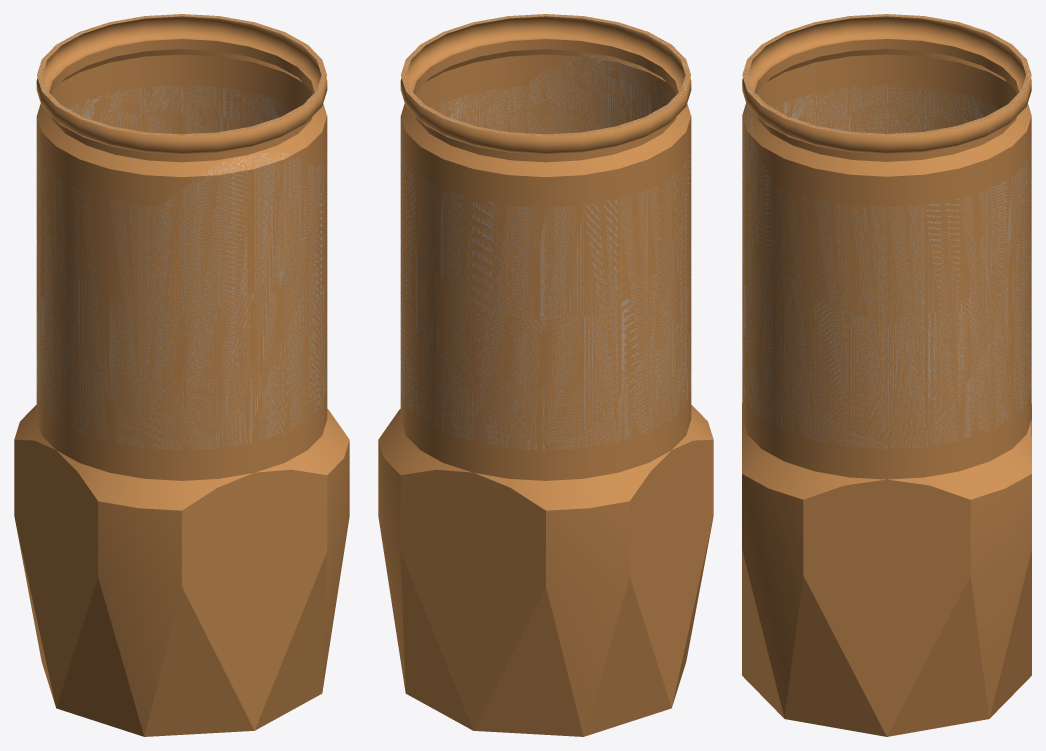
The model's file is original-3.obj.
3 renders of one model, left to right at view 1: azimuth 30°, elevation 25°; view 2: azimuth 150°, elevation 25°; view 3: azimuth 270°, elevation 25°, orthographic.
Visible parts, largest first — view 1: Component_3_1/Component_3/mesh3/mesh3-geometry#mesh3-geometry; view 2: Component_3_1/Component_3/mesh3/mesh3-geometry#mesh3-geometry; view 3: Component_3_1/Component_3/mesh3/mesh3-geometry#mesh3-geometry.
Part boxes in pixels (x1=…): Component_3_1/Component_3/mesh3/mesh3-geometry#mesh3-geometry: x1=14, y1=14, x2=349, y2=736; Component_3_1/Component_3/mesh3/mesh3-geometry#mesh3-geometry: x1=378, y1=14, x2=713, y2=736; Component_3_1/Component_3/mesh3/mesh3-geometry#mesh3-geometry: x1=742, y1=14, x2=1031, y2=736.
Size of the model in its own units: 0.6927 by 1.58 by 0.6927.
